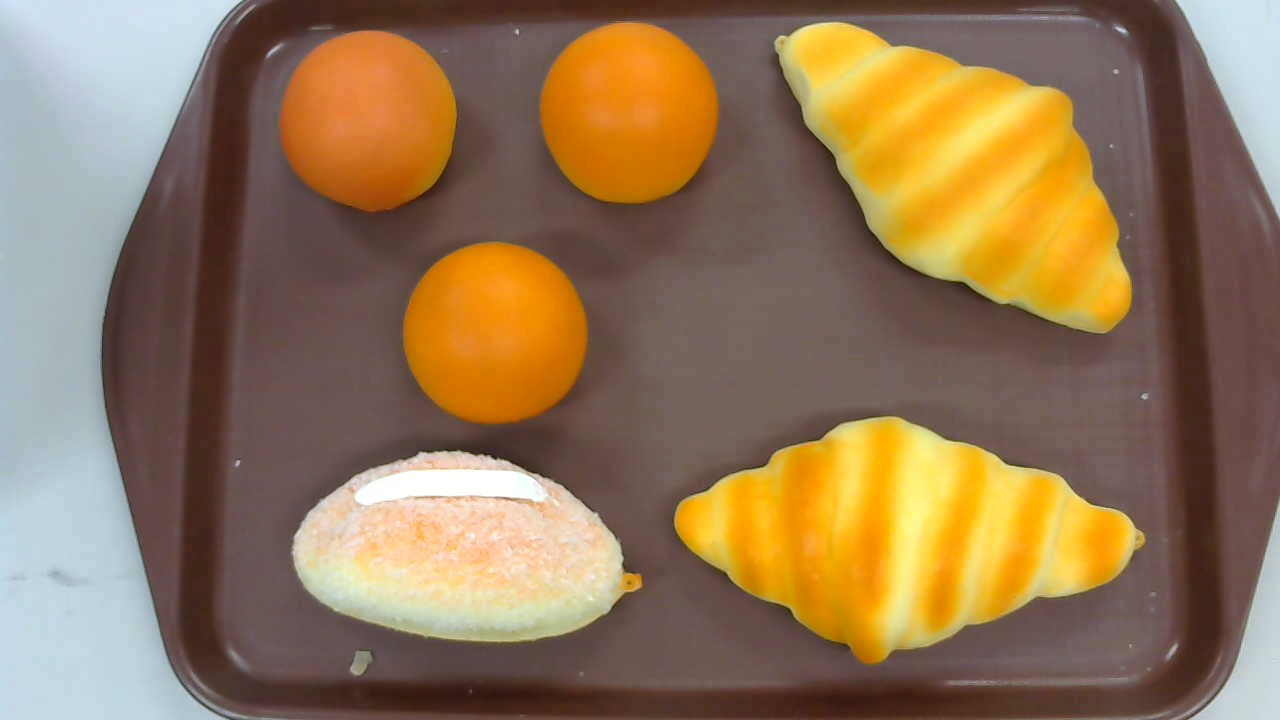bun: (399, 241, 590, 425), (540, 22, 719, 203), (279, 29, 456, 212)
coconut: (291, 448, 643, 642)
croissant: (673, 414, 1145, 666), (773, 22, 1133, 334)
